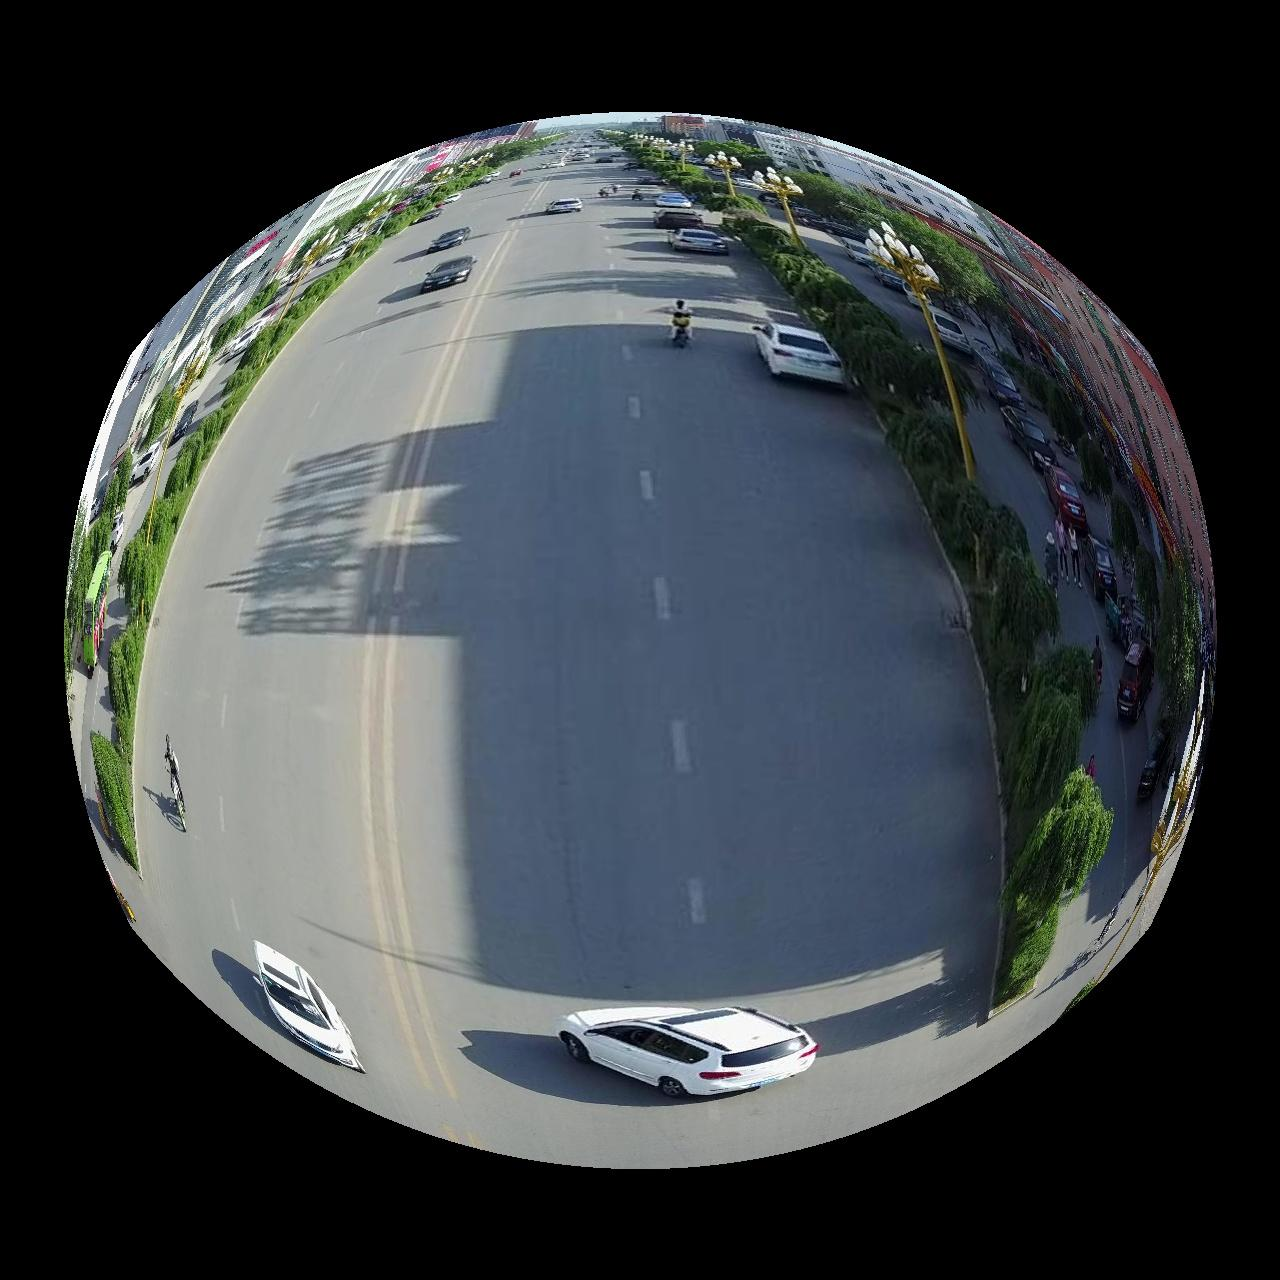cars: (560, 1009, 819, 1098), (254, 943, 363, 1074), (754, 323, 847, 386), (420, 254, 476, 292), (669, 227, 729, 254), (427, 226, 470, 252), (654, 208, 704, 228), (546, 196, 583, 212), (656, 191, 693, 206)
trees: (703, 181, 1116, 1008), (89, 219, 393, 868)
